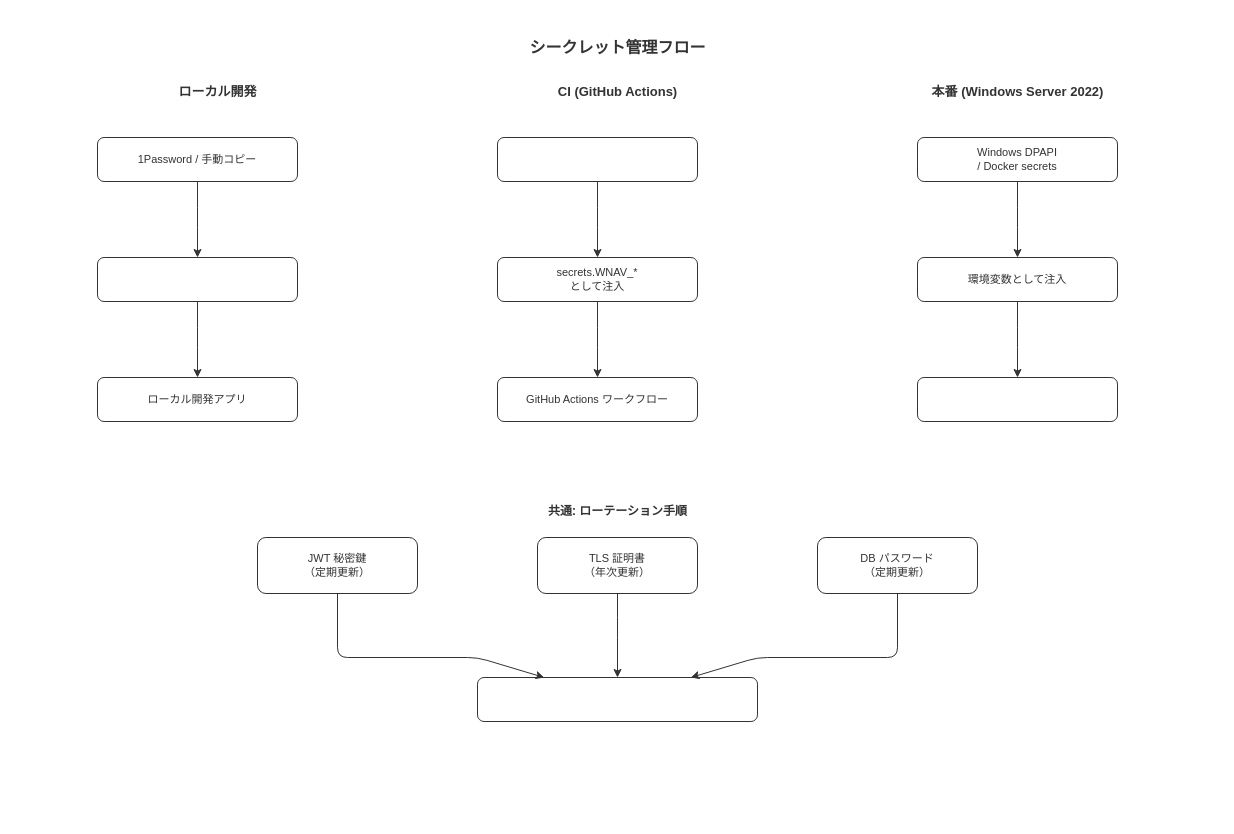
This 1234x834 diagram has some shape labels left out. Here are the shapes that lost their labels. From the top down, the box of each, then its label:
(496, 136, 698, 182): GitHub Secrets
(96, 256, 298, 302): .env ファイル (gitignore)
(916, 376, 1118, 422): 本番アプリケーション
(476, 676, 758, 722): 全環境への反映・再起動
